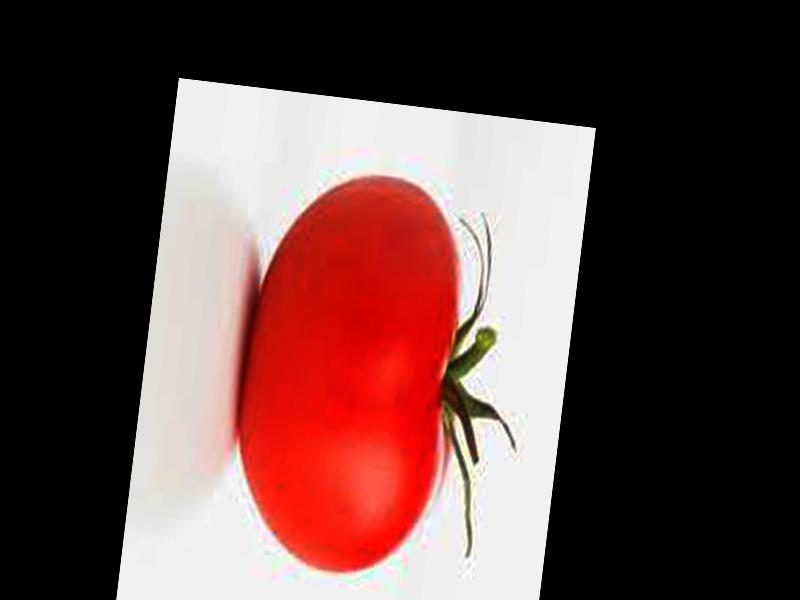Tomato: (222, 165, 473, 583)
